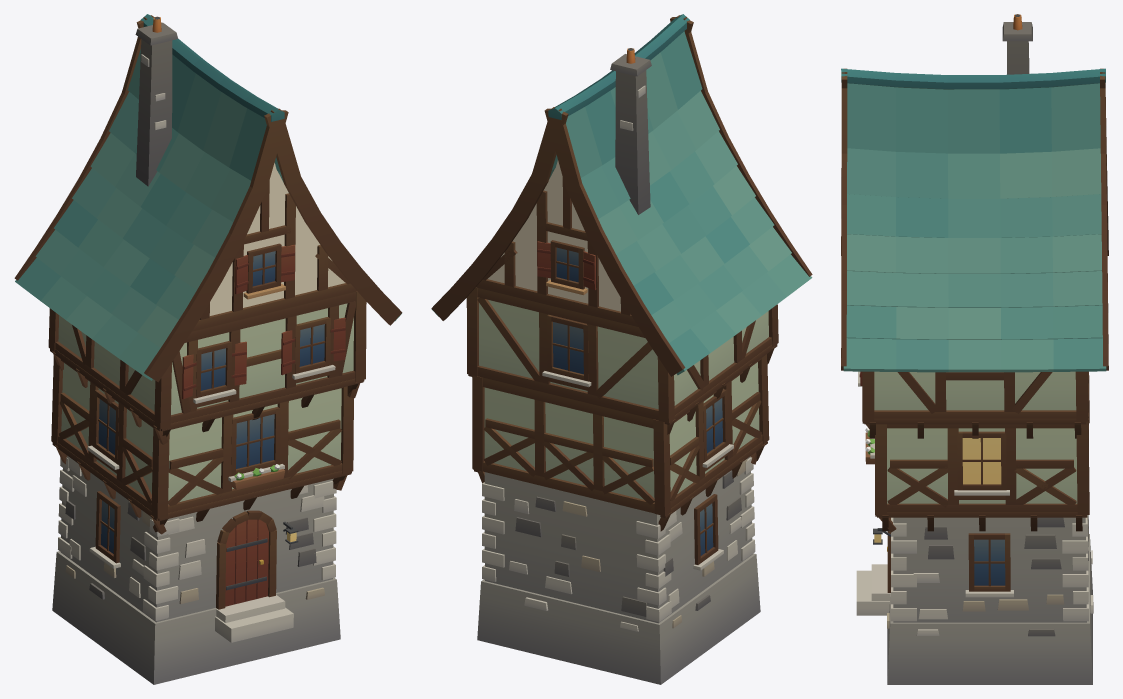
File: house_06_crooked_tower_house.glb
3 views of the same model, side by side, from view 1: azimuth 30°, elevation 25°; view 2: azimuth 150°, elevation 25°; view 3: azimuth 270°, elevation 25° (orthographic). The views are drawn at different scales.
Visible parts, largest first — view 1: house_06_crooked_tower_house; view 2: house_06_crooked_tower_house; view 3: house_06_crooked_tower_house.
Part boxes in pixels (x1,y1,x2,y2): house_06_crooked_tower_house: (14, 14, 402, 684); house_06_crooked_tower_house: (431, 14, 812, 684); house_06_crooked_tower_house: (841, 14, 1108, 684).
Size of the model in its own units: 24.23 by 53.93 by 21.43.
1 material, 1 textured.
